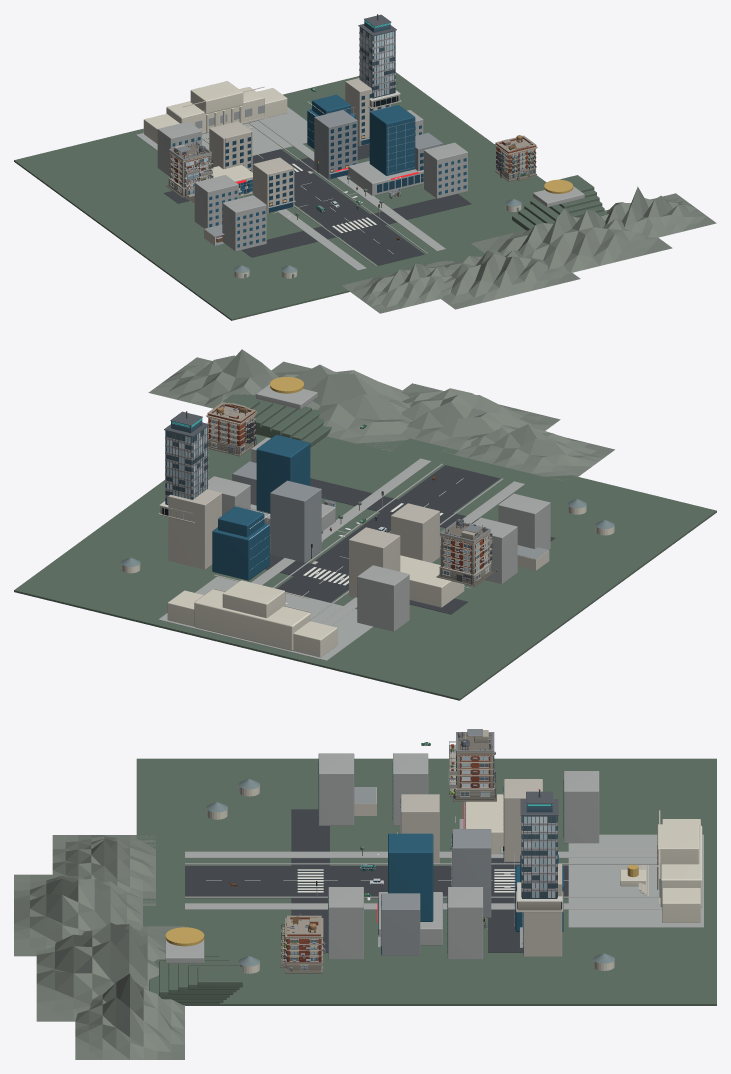
File: ub6-3d-jutsu-r12.glb
3 renders of one model, top to bottom at view 1: azimuth 30°, elevation 25°; view 2: azimuth 150°, elevation 25°; view 3: azimuth 270°, elevation 25°, orthographic. The views are drawn at different scales.
Visible parts, largest first — view 1: ENV_GROUND, ZAISAN_MOUNTAIN_RIDGE_0, ZAISAN_MOUNTAIN_RIDGE_1, ROAD_PEACE_AVENUE, ZAISAN_MOUNTAIN_RIDGE_3, ZAISAN_MOUNTAIN_RIDGE_2, downtown_glass_tower, SHANGRILA_TOWER, ROAD_CROSSING_SOUTH, MIXED_USE_BUILDING_BODY.001, UB_RESIDENTIAL_BLOCK.003, UB_RESIDENTIAL_BLOCK.001 (+20 smaller); view 2: ENV_GROUND, ZAISAN_MOUNTAIN_RIDGE_0, ZAISAN_MOUNTAIN_RIDGE_1, ZAISAN_MOUNTAIN_RIDGE_3, ROAD_PEACE_AVENUE, ZAISAN_MOUNTAIN_RIDGE_2, MIXED_USE_BUILDING_BODY.001, downtown_glass_tower, GOV_PALACE_MAIN, MIXED_USE_BUILDING_BODY.004, UB_RESIDENTIAL_BLOCK.004, highrise_apartment_01 (+20 smaller); view 3: ENV_GROUND, ZAISAN_MOUNTAIN_RIDGE_0, ZAISAN_MOUNTAIN_RIDGE_1, ZAISAN_MOUNTAIN_RIDGE_2, SUKHBAATAR_SQUARE_PLAZA, ROAD_PEACE_AVENUE, ZAISAN_MOUNTAIN_RIDGE_3, downtown_glass_tower, ROAD_CROSSING_SOUTH, highrise_apartment_01, SHANGRILA_TOWER, UB_RESIDENTIAL_BLOCK.002 (+26 smaller).
Boxes of the visible parts, <box> form: ENV_GROUND: <box>14,72,546,320</box>; ZAISAN_MOUNTAIN_RIDGE_0: <box>471,208,672,274</box>; ZAISAN_MOUNTAIN_RIDGE_1: <box>441,249,580,309</box>; ROAD_PEACE_AVENUE: <box>252,149,424,265</box>; ZAISAN_MOUNTAIN_RIDGE_3: <box>342,260,454,313</box>; ZAISAN_MOUNTAIN_RIDGE_2: <box>601,186,716,237</box>; downtown_glass_tower: <box>358,14,401,108</box>; SHANGRILA_TOWER: <box>369,105,415,175</box>; ROAD_CROSSING_SOUTH: <box>242,193,471,257</box>; MIXED_USE_BUILDING_BODY.001: <box>314,110,357,179</box>; UB_RESIDENTIAL_BLOCK.003: <box>423,142,467,198</box>; UB_RESIDENTIAL_BLOCK.001: <box>222,195,266,251</box>; ENV_GROUND: <box>14,434,716,700</box>; ZAISAN_MOUNTAIN_RIDGE_0: <box>271,361,410,451</box>; ZAISAN_MOUNTAIN_RIDGE_1: <box>397,383,560,450</box>; ZAISAN_MOUNTAIN_RIDGE_3: <box>441,424,614,480</box>; ROAD_PEACE_AVENUE: <box>277,465,499,602</box>; ZAISAN_MOUNTAIN_RIDGE_2: <box>148,349,279,408</box>; MIXED_USE_BUILDING_BODY.001: <box>270,480,321,562</box>; downtown_glass_tower: <box>158,411,209,523</box>; GOV_PALACE_MAIN: <box>194,589,310,650</box>; MIXED_USE_BUILDING_BODY.004: <box>168,489,221,569</box>; UB_RESIDENTIAL_BLOCK.004: <box>357,565,409,631</box>; highrise_apartment_01: <box>436,519,497,586</box>; ENV_GROUND: <box>136,758,716,1005</box>; ZAISAN_MOUNTAIN_RIDGE_0: <box>36,922,184,1021</box>; ZAISAN_MOUNTAIN_RIDGE_1: <box>14,874,142,956</box>; ZAISAN_MOUNTAIN_RIDGE_2: <box>75,973,184,1059</box>; SUKHBAATAR_SQUARE_PLAZA: <box>568,834,703,927</box>; ROAD_PEACE_AVENUE: <box>185,866,568,896</box>; ZAISAN_MOUNTAIN_RIDGE_3: <box>52,835,155,905</box>; downtown_glass_tower: <box>516,789,563,912</box>; ROAD_CROSSING_SOUTH: <box>291,809,329,952</box>; highrise_apartment_01: <box>448,729,496,801</box>; SHANGRILA_TOWER: <box>388,833,433,921</box>; UB_RESIDENTIAL_BLOCK.002: <box>447,887,483,959</box>.
Size of the model in its own units: 221 by 97.79 by 218.
